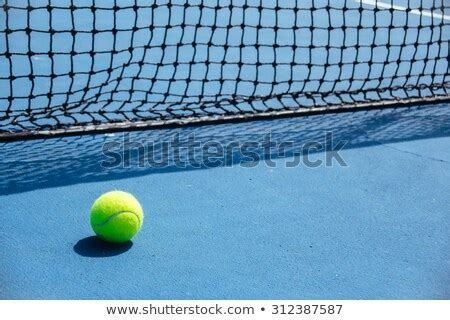tennis_ball: (90, 190, 145, 242)
